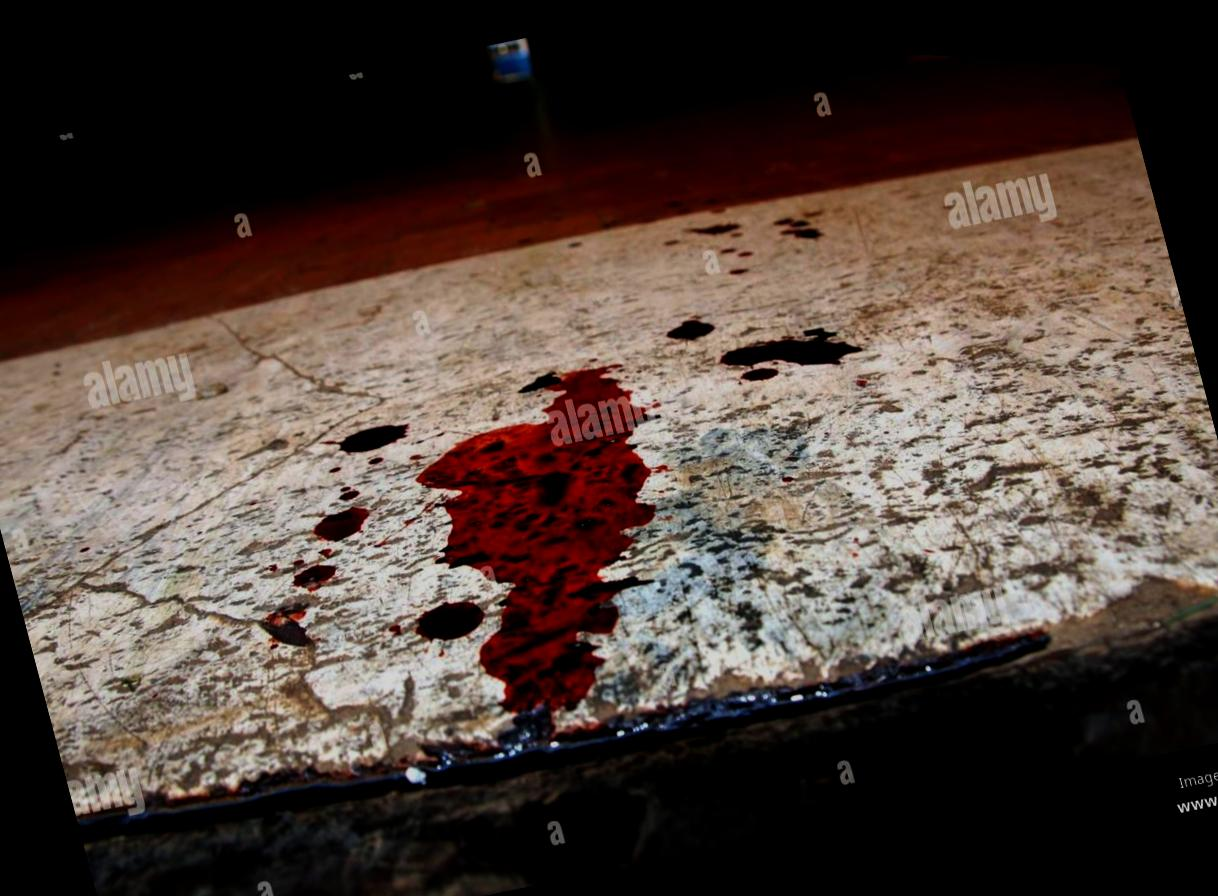Fire: (414, 355, 662, 745), (719, 317, 862, 357), (414, 595, 484, 636), (335, 418, 409, 448), (312, 501, 370, 537), (291, 560, 336, 582), (666, 311, 715, 331), (740, 357, 779, 372)
